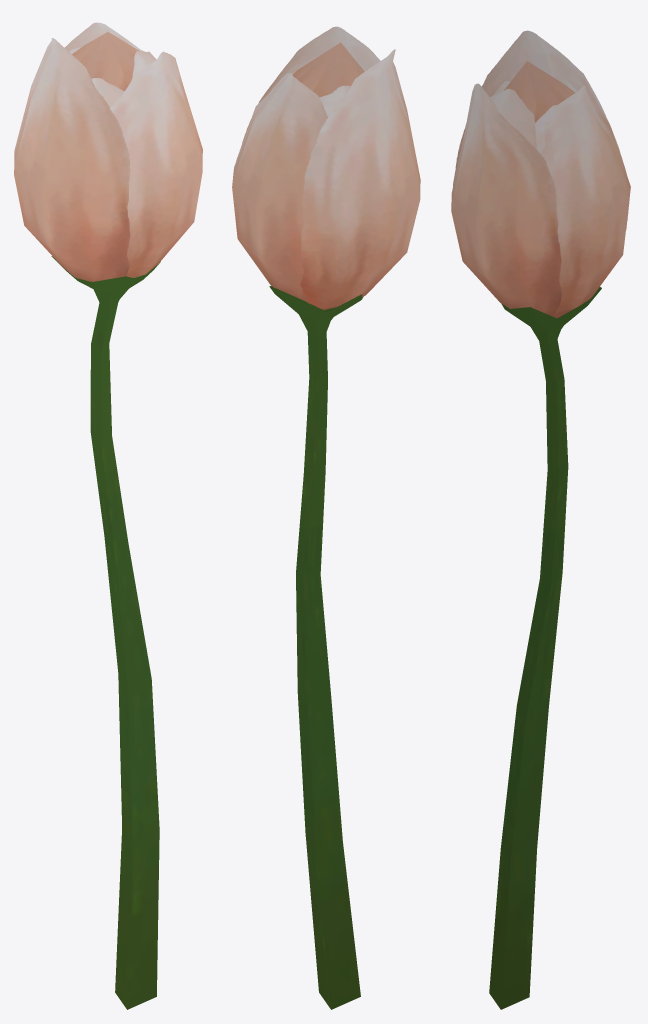
File: Homeworld_General_Common_Thing_Prop_Irodori_MainFlower_09_High_Vo.fbx
The picture shows the model from 3 angles, left to right: view 1: azimuth 30°, elevation 25°; view 2: azimuth 150°, elevation 25°; view 3: azimuth 270°, elevation 25°; orthographic projection. The views are drawn at different scales.
Parts seen in each view (by area): view 1: Homeworld_General_Common_Thing_Prop_Irodori_MainFlower_09_Vo; view 2: Homeworld_General_Common_Thing_Prop_Irodori_MainFlower_09_Vo; view 3: Homeworld_General_Common_Thing_Prop_Irodori_MainFlower_09_Vo.
Part boxes in pixels (bbox=[...]): Homeworld_General_Common_Thing_Prop_Irodori_MainFlower_09_Vo: bbox=[14, 22, 202, 1009]; Homeworld_General_Common_Thing_Prop_Irodori_MainFlower_09_Vo: bbox=[232, 26, 420, 1009]; Homeworld_General_Common_Thing_Prop_Irodori_MainFlower_09_Vo: bbox=[451, 30, 630, 1009].
Size of the model in its own units: 0.0802 by 0.462 by 0.0813.
